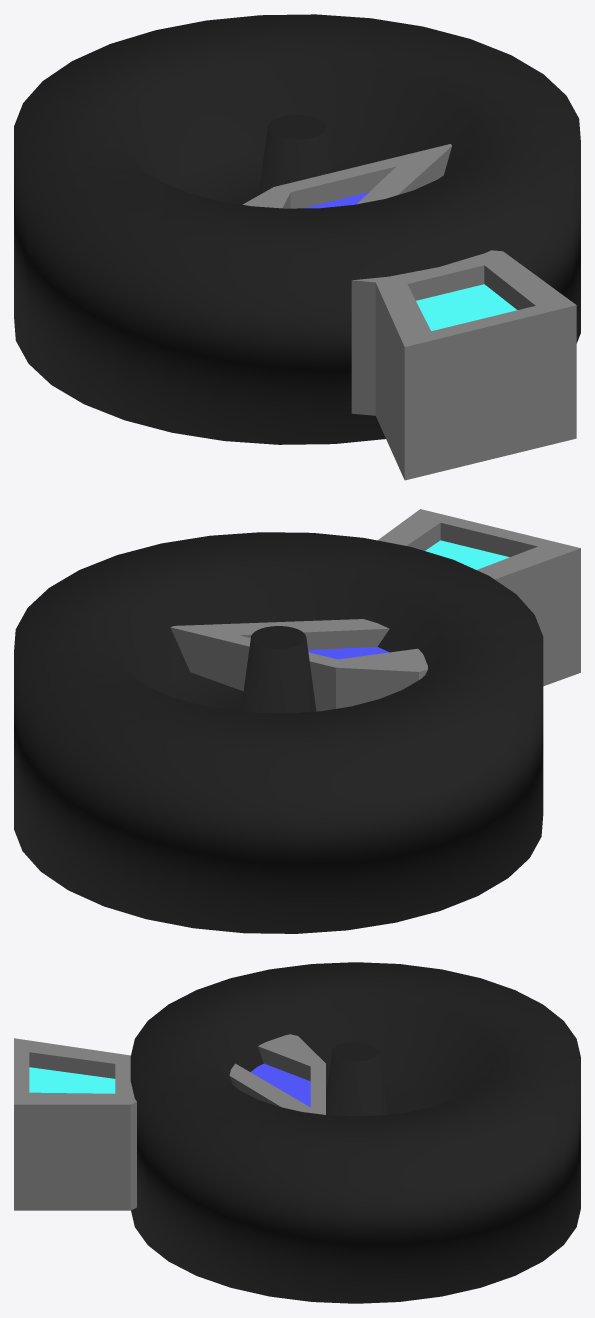
Rendered from spin.glb.
3 views of the same model, one above another, from view 1: azimuth 30°, elevation 25°; view 2: azimuth 150°, elevation 25°; view 3: azimuth 270°, elevation 25° (orthographic). The views are drawn at different scales.
Parts seen in each view (by area): view 1: Cylinder, Cube; view 2: Cylinder, Cube; view 3: Cylinder, Cube.
Boxes of the visible parts, bbox=[...] form: Cylinder: bbox=[14, 14, 580, 444]; Cube: bbox=[242, 144, 576, 480]; Cylinder: bbox=[14, 532, 543, 933]; Cube: bbox=[170, 509, 580, 711]; Cylinder: bbox=[130, 962, 580, 1303]; Cube: bbox=[14, 1034, 325, 1210].
Size of what is drawn, in the model's own units: 7.72 by 3.39 by 9.72.
